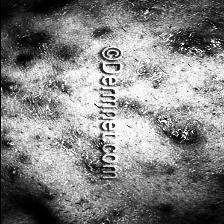Non-Cancerous Skin Condition: (0, 0, 79, 173), (145, 12, 224, 145)
